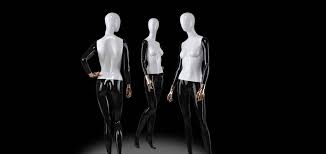person-like: (80, 11, 132, 153), (166, 11, 217, 154), (133, 16, 167, 152)
